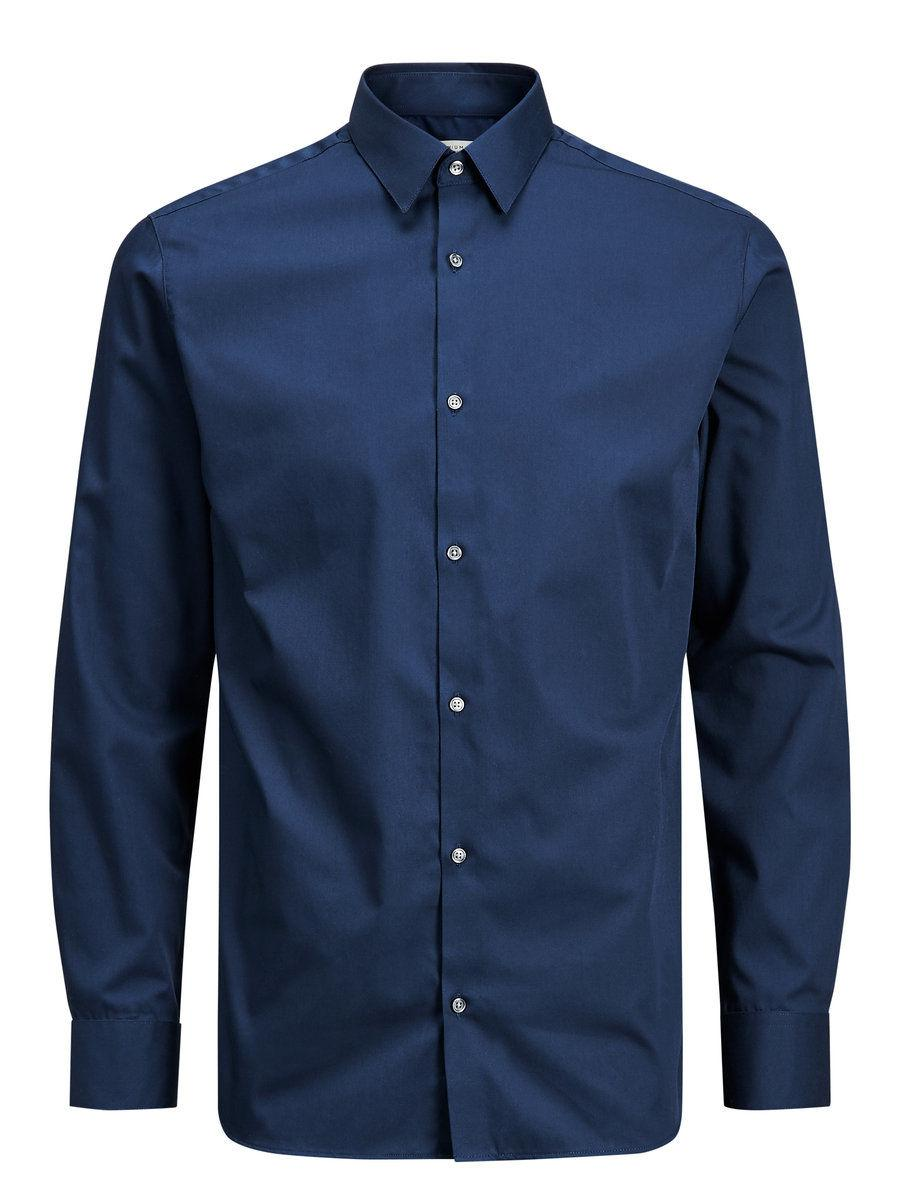teeshirt: (38, 60, 867, 1171)
